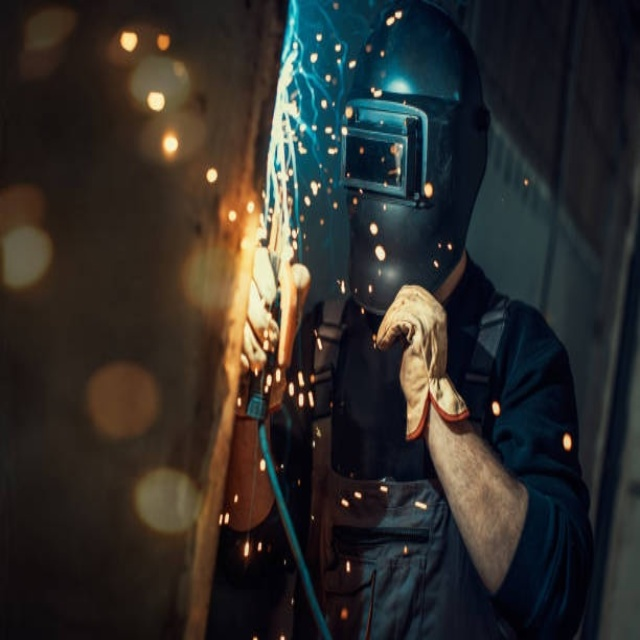Guantes: (376, 284, 471, 439), (243, 244, 310, 392)
